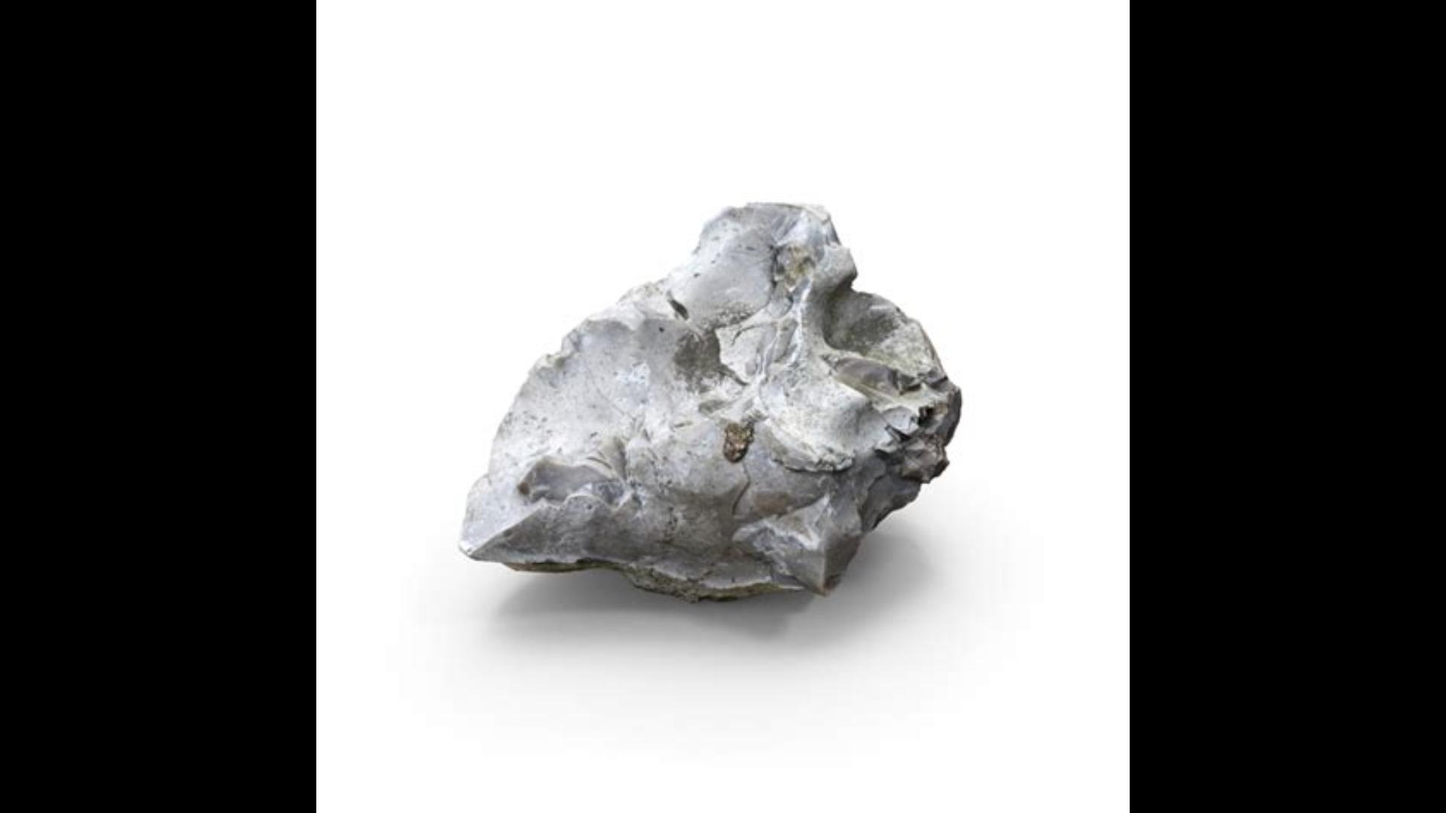rock: (460, 209, 956, 597)
